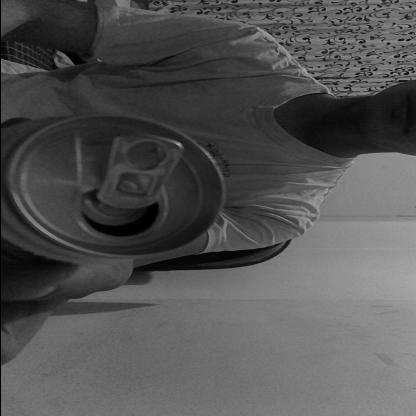alumunium_can: (0, 111, 223, 273)
